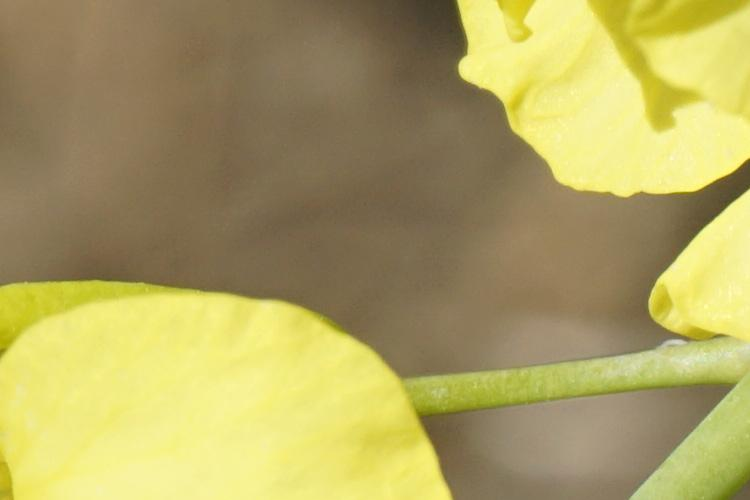yellow: (11, 275, 456, 495), (454, 19, 750, 343)
